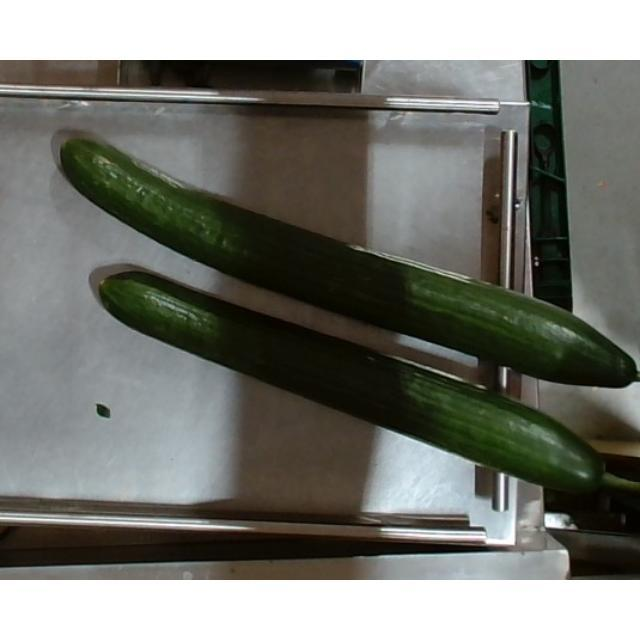cucumber: (57, 138, 638, 388), (96, 269, 640, 499)
